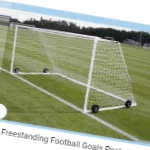goals: (10, 24, 138, 117)
